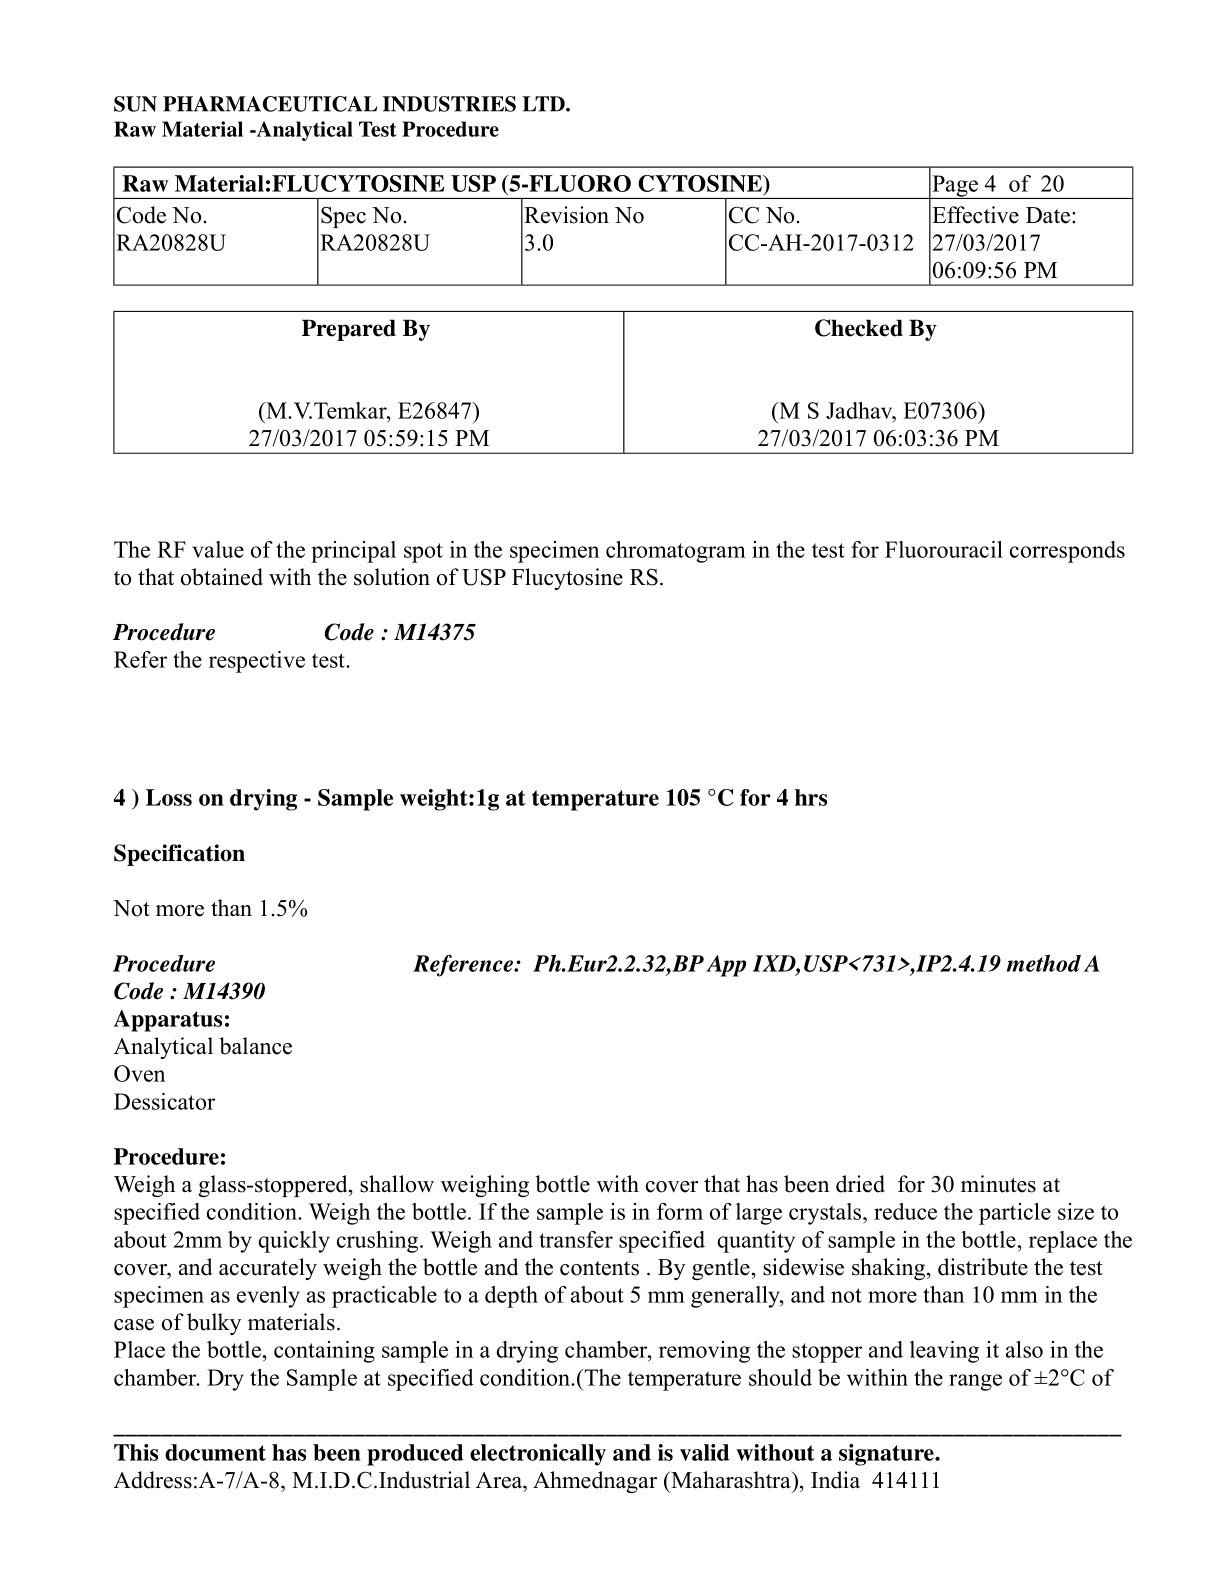full_lined: (112, 309, 1134, 455)
merged_cells: (112, 165, 1134, 287)
